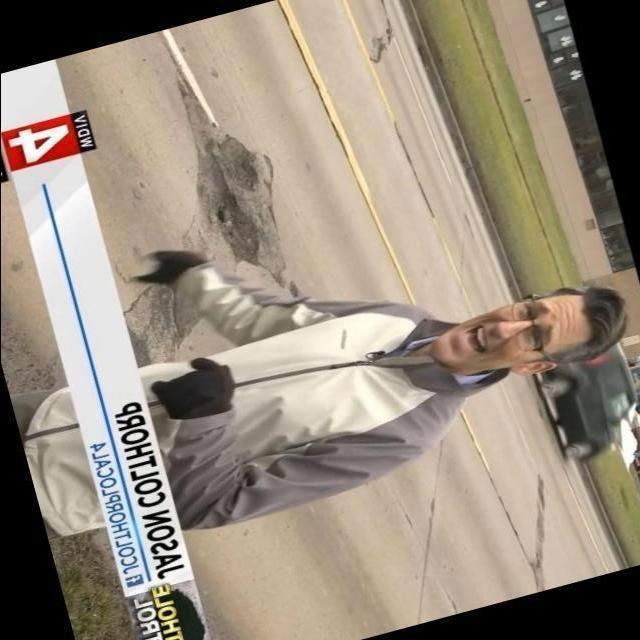pothole: (178, 72, 294, 287), (125, 285, 192, 364)
